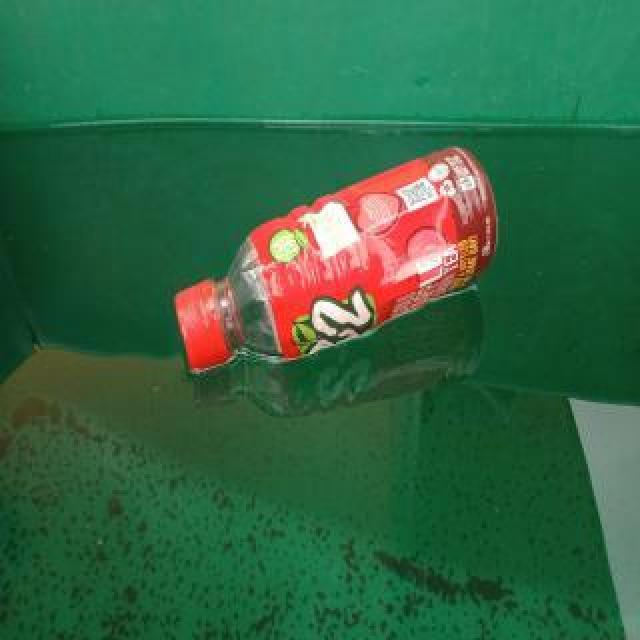bottle: (170, 145, 498, 377)
